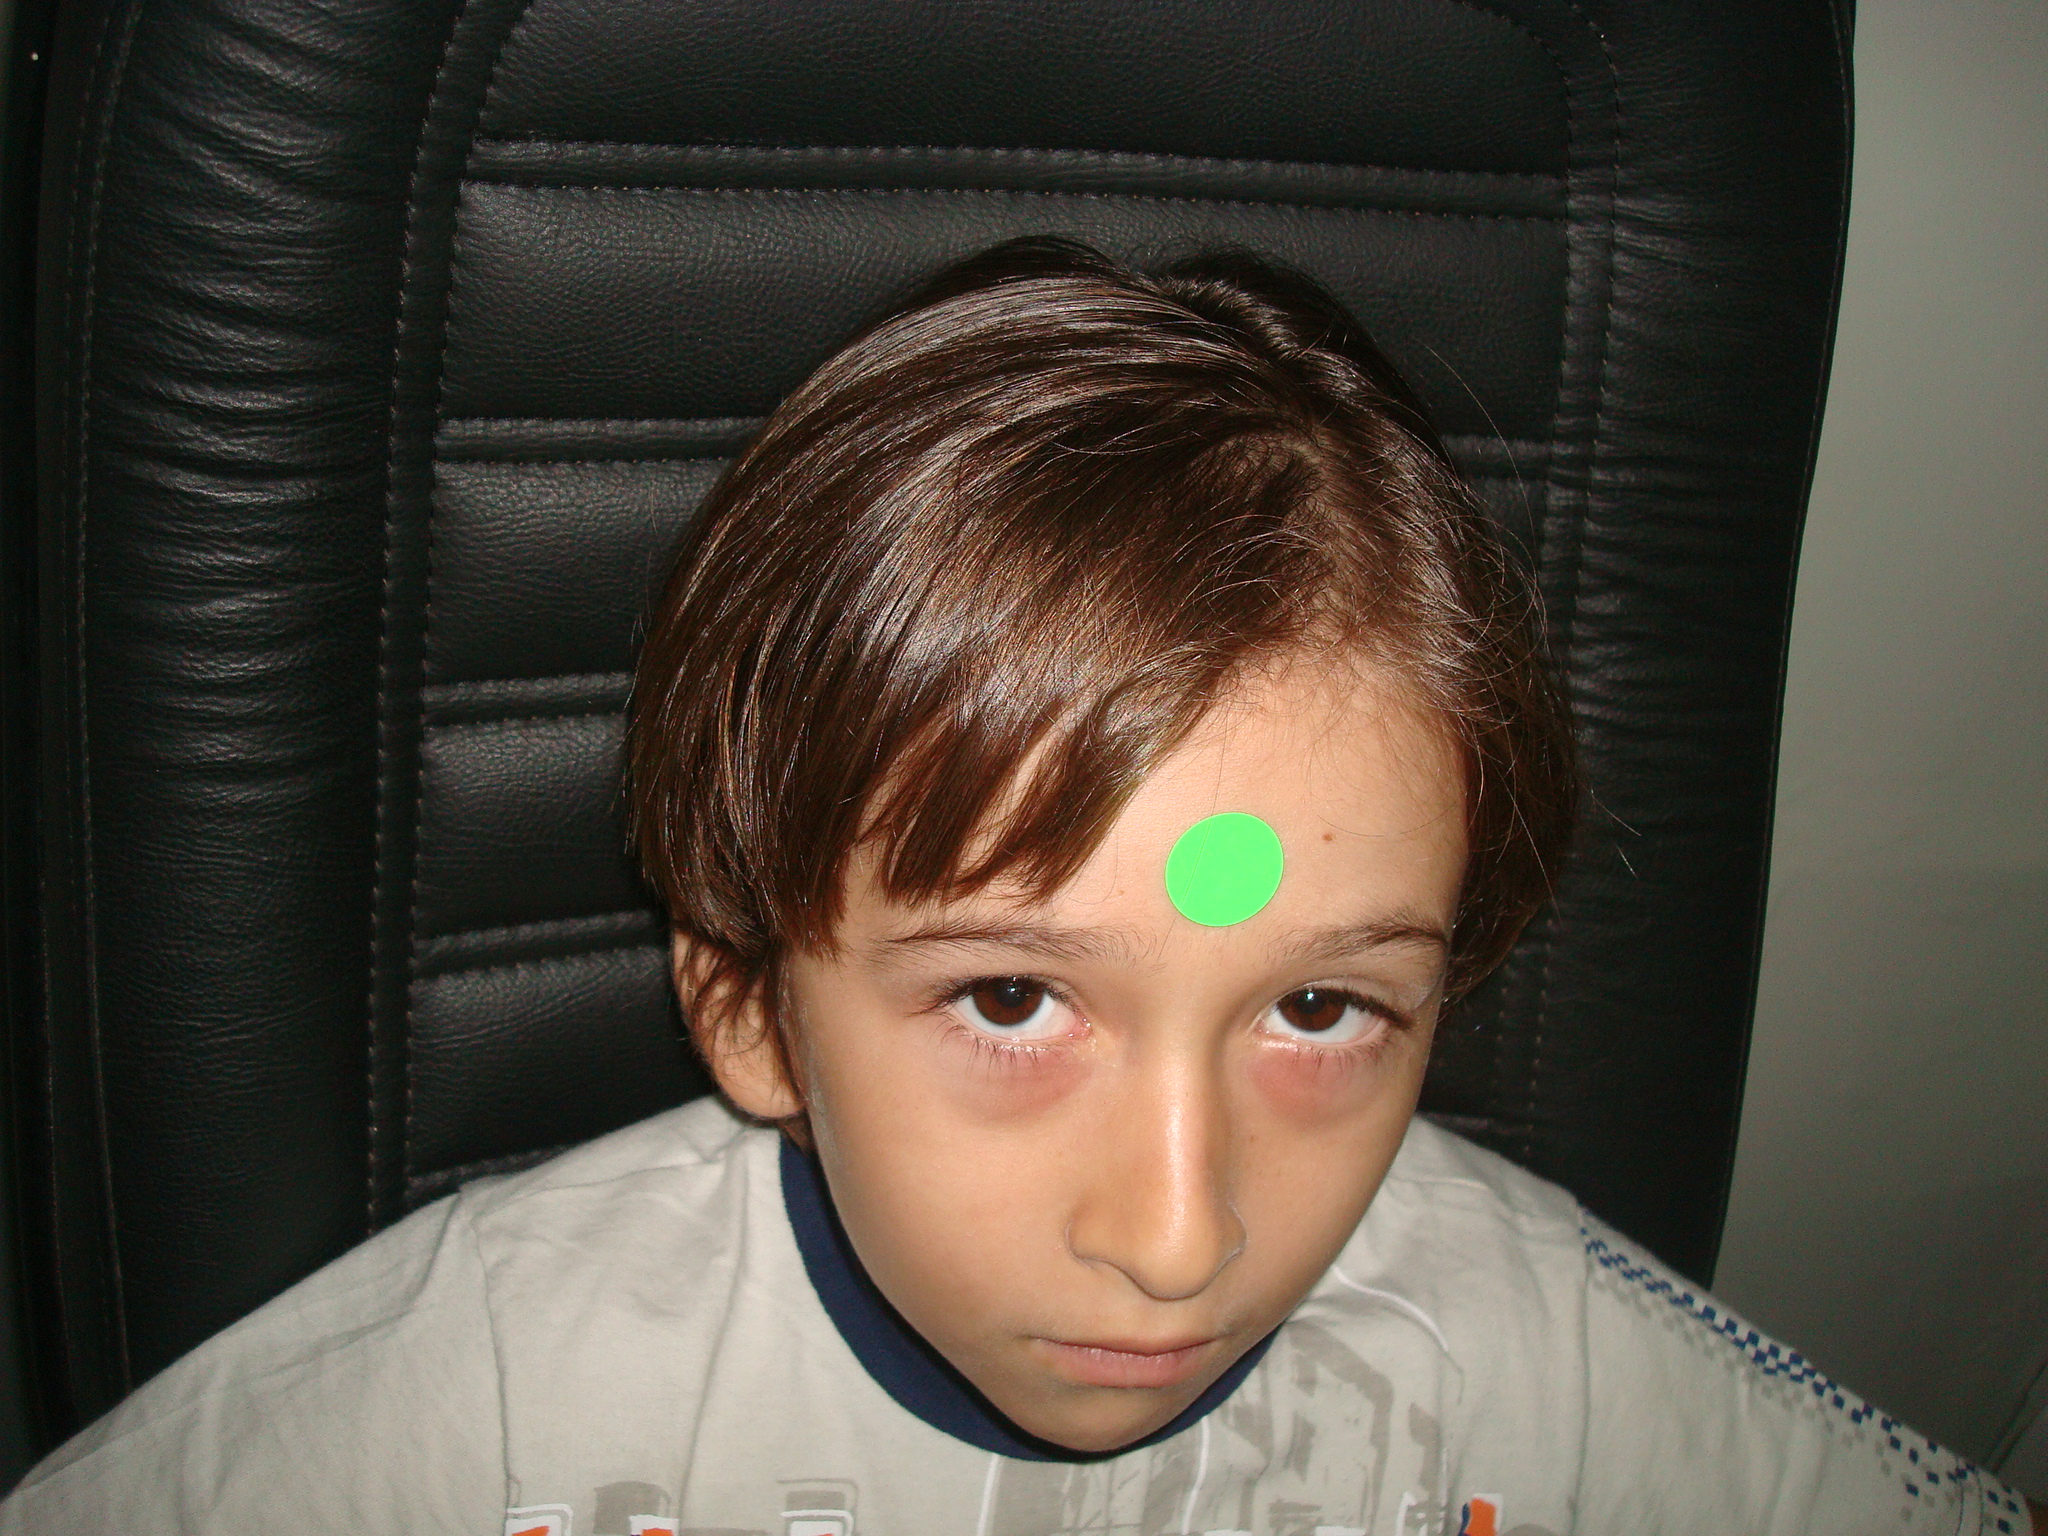flash: (1008, 987, 1018, 992), (1305, 994, 1314, 999)
limbo: (971, 966, 1045, 1026), (1274, 976, 1347, 1033)
